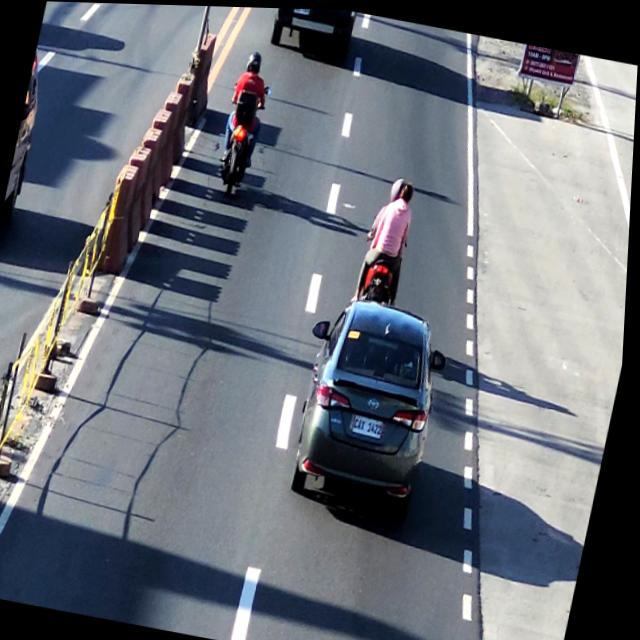Car: (288, 292, 456, 517), (265, 6, 362, 62)
License-Plate: (355, 410, 392, 438), (293, 7, 313, 15)
Motorcycle: (212, 48, 275, 200), (354, 172, 425, 306)
